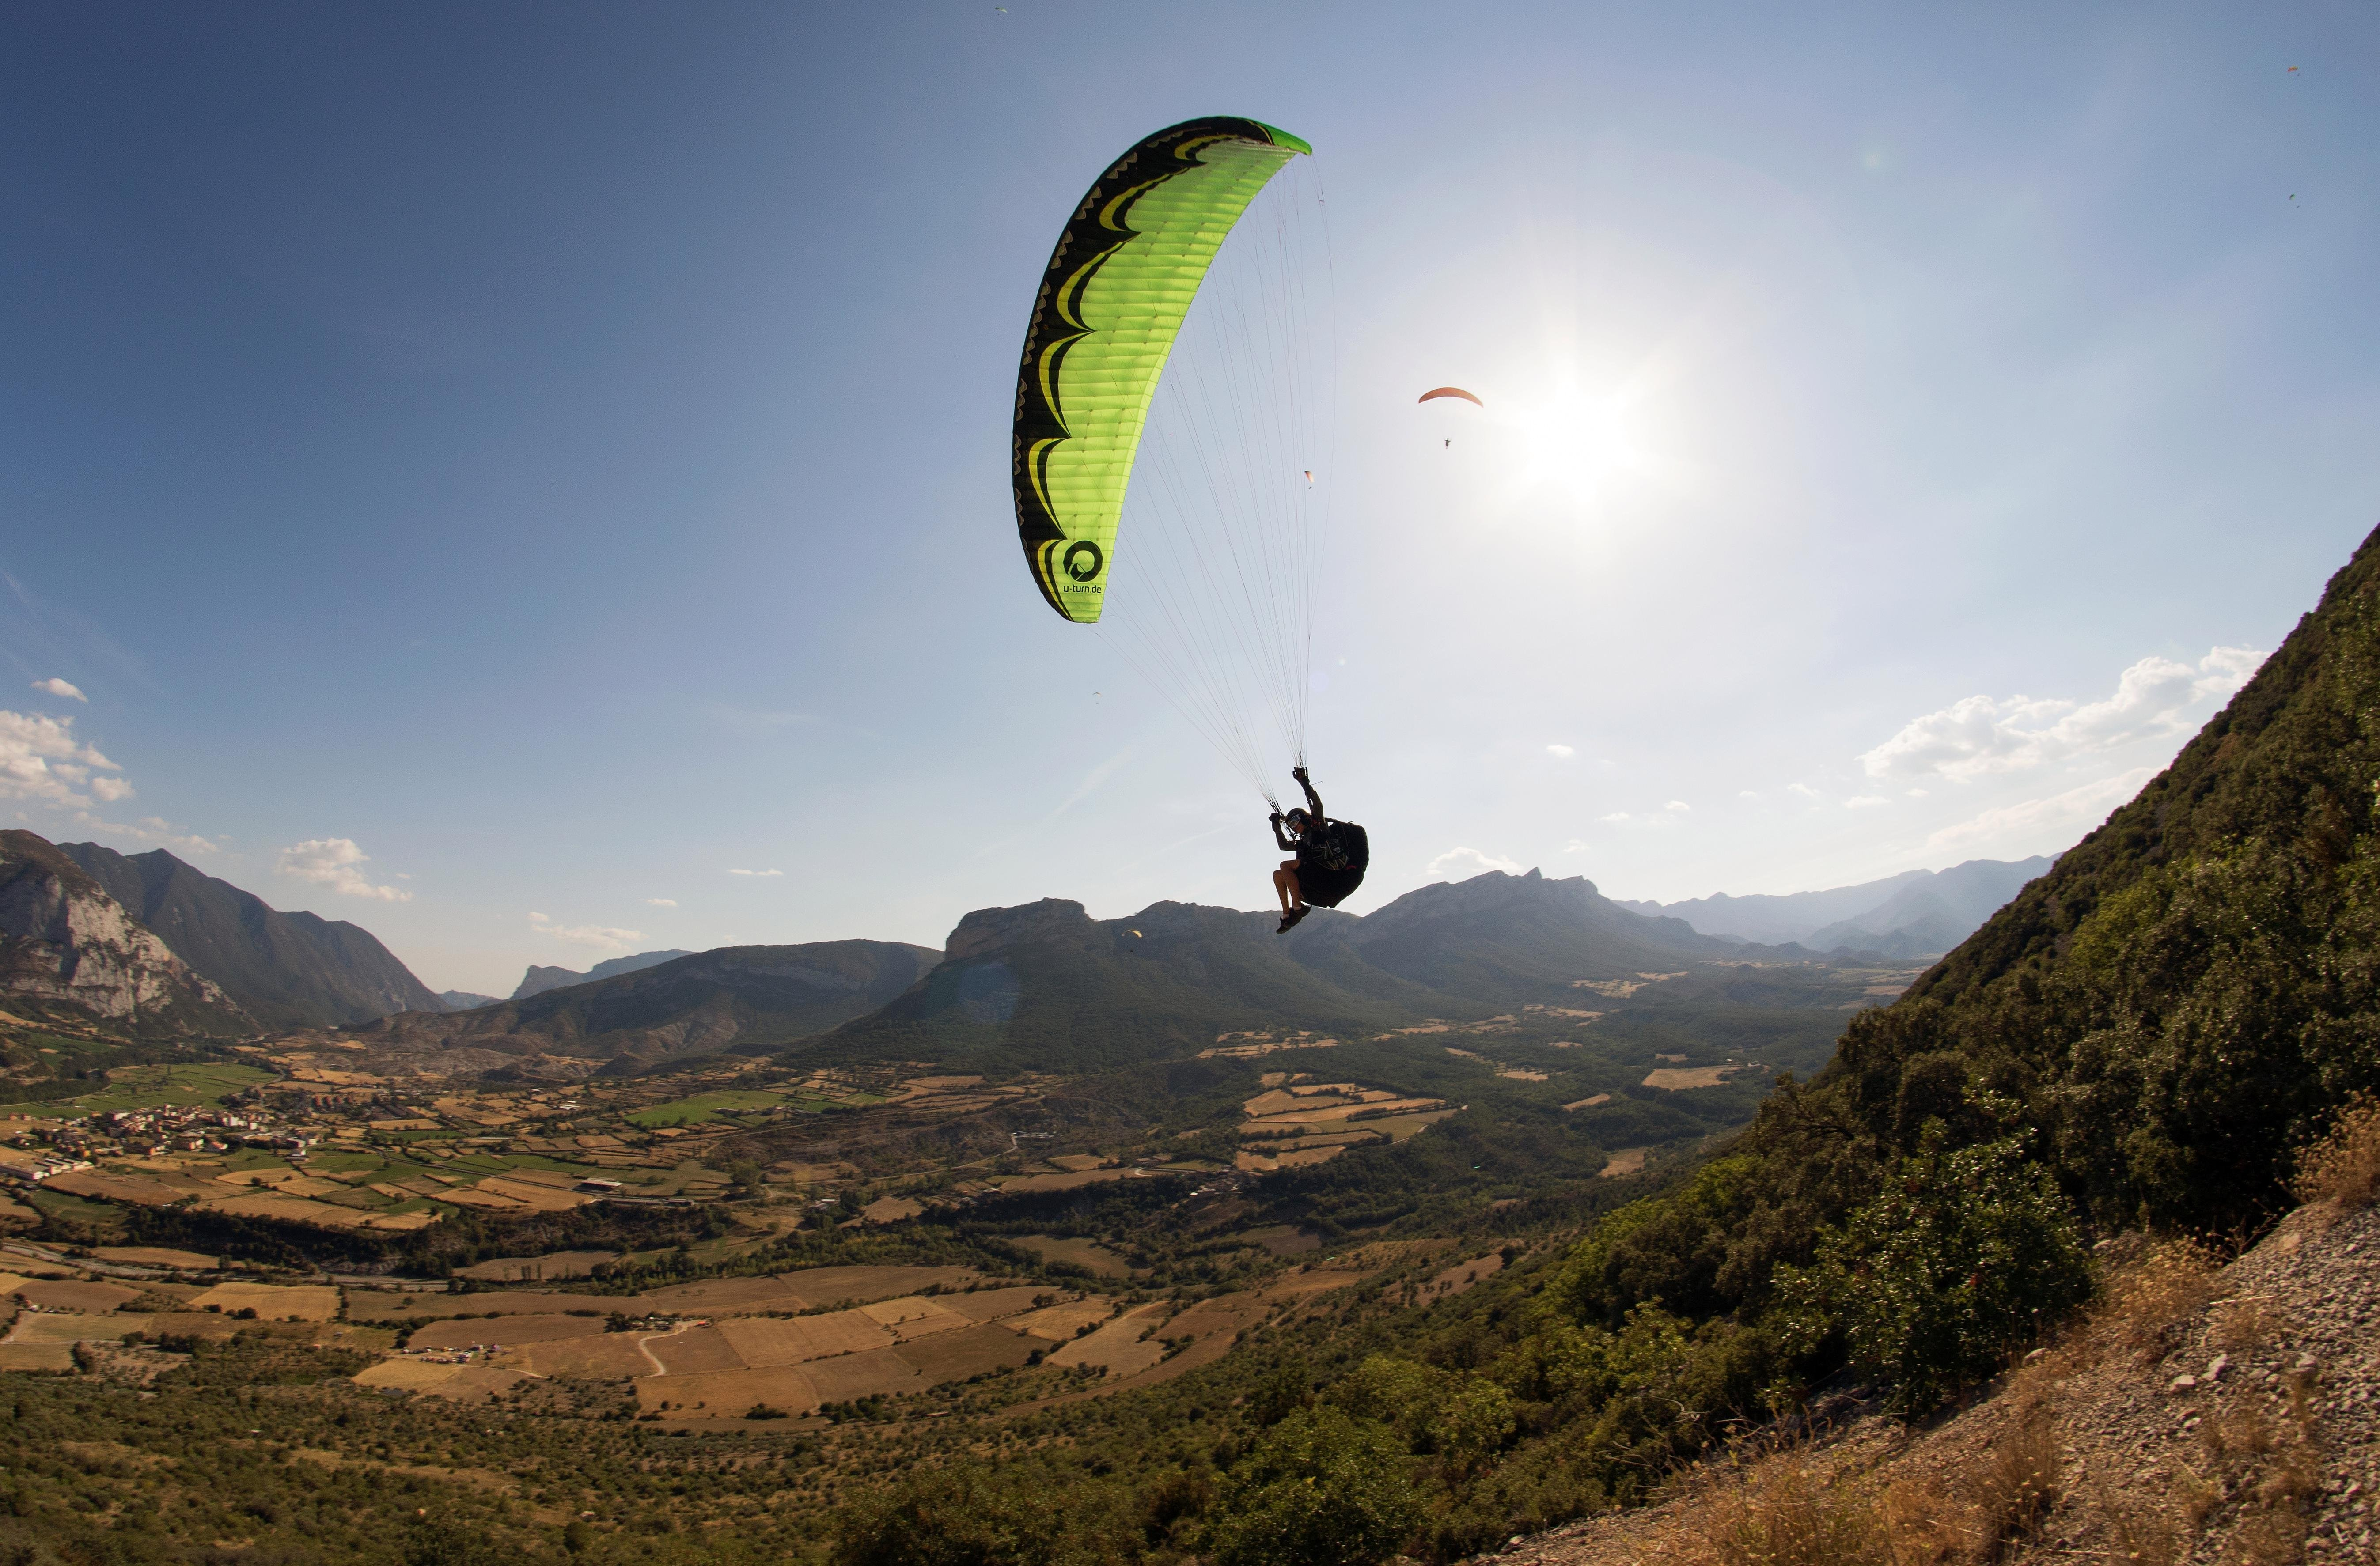Paraglider: (989, 119, 1356, 641), (1394, 360, 1499, 418)
